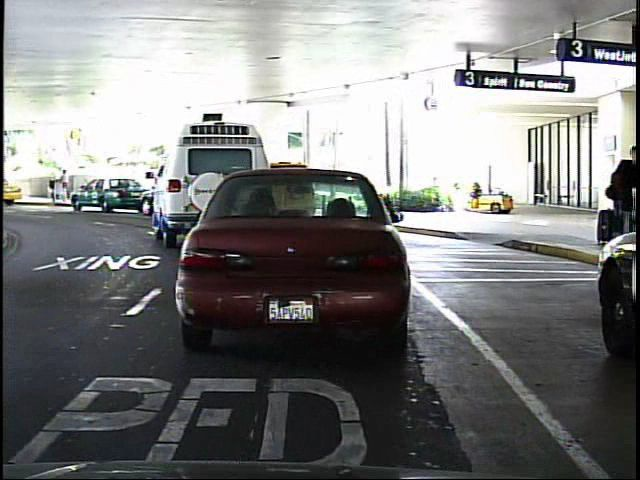person: (604, 137, 639, 254), (53, 162, 67, 201), (59, 165, 73, 203)
